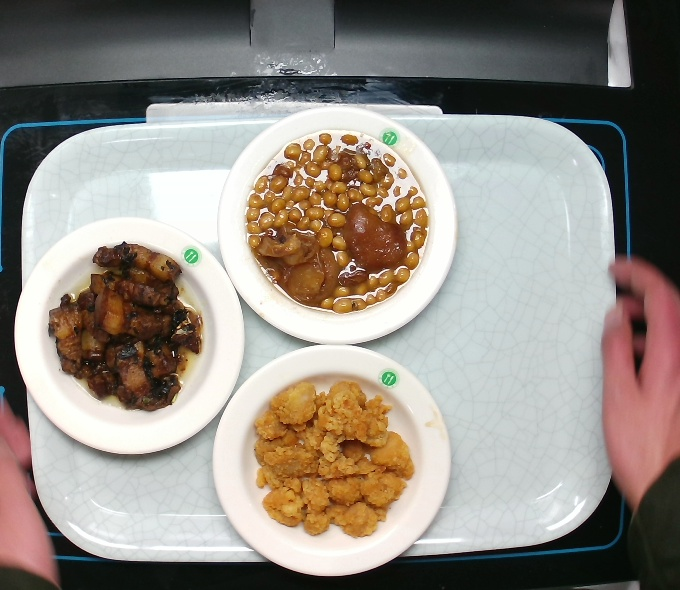wcq-GanCaiRou: (42, 236, 211, 419)
wcq-HuangDouZhuJiao: (238, 121, 440, 326)
wcq-JiMiHua: (247, 374, 418, 548)
